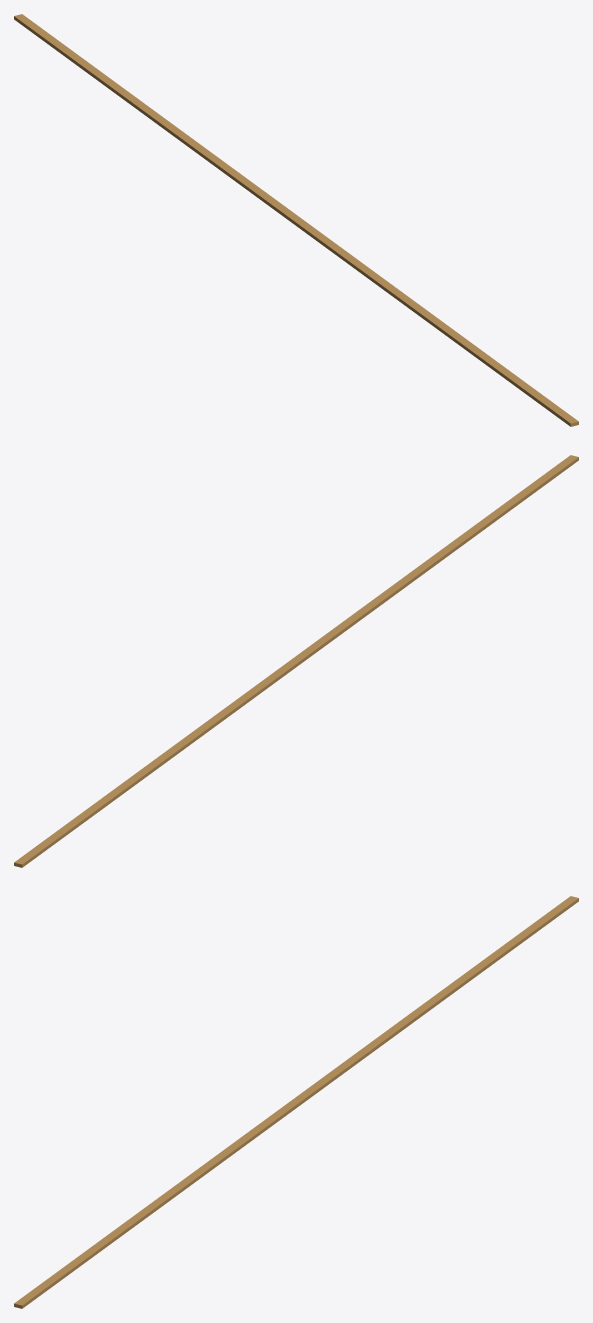
3 views of the same model, one above another, from view 1: azimuth 30°, elevation 25°; view 2: azimuth 150°, elevation 25°; view 3: azimuth 330°, elevation 25° (orthographic).
Visible parts, largest first — view 1: RUN-076-S00-ribbon; view 2: RUN-076-S00-ribbon; view 3: RUN-076-S00-ribbon.
Boxes of the visible parts, bbox=[...] form: RUN-076-S00-ribbon: bbox=[14, 14, 578, 426]; RUN-076-S00-ribbon: bbox=[14, 455, 578, 867]; RUN-076-S00-ribbon: bbox=[14, 896, 578, 1308].
Size of the model in its own units: 0.09 by 0.035 by 10.51.
